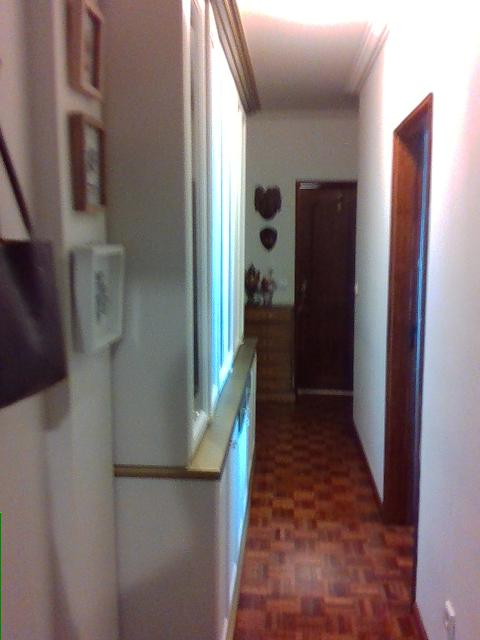door: (384, 92, 434, 603), (292, 178, 354, 388)
